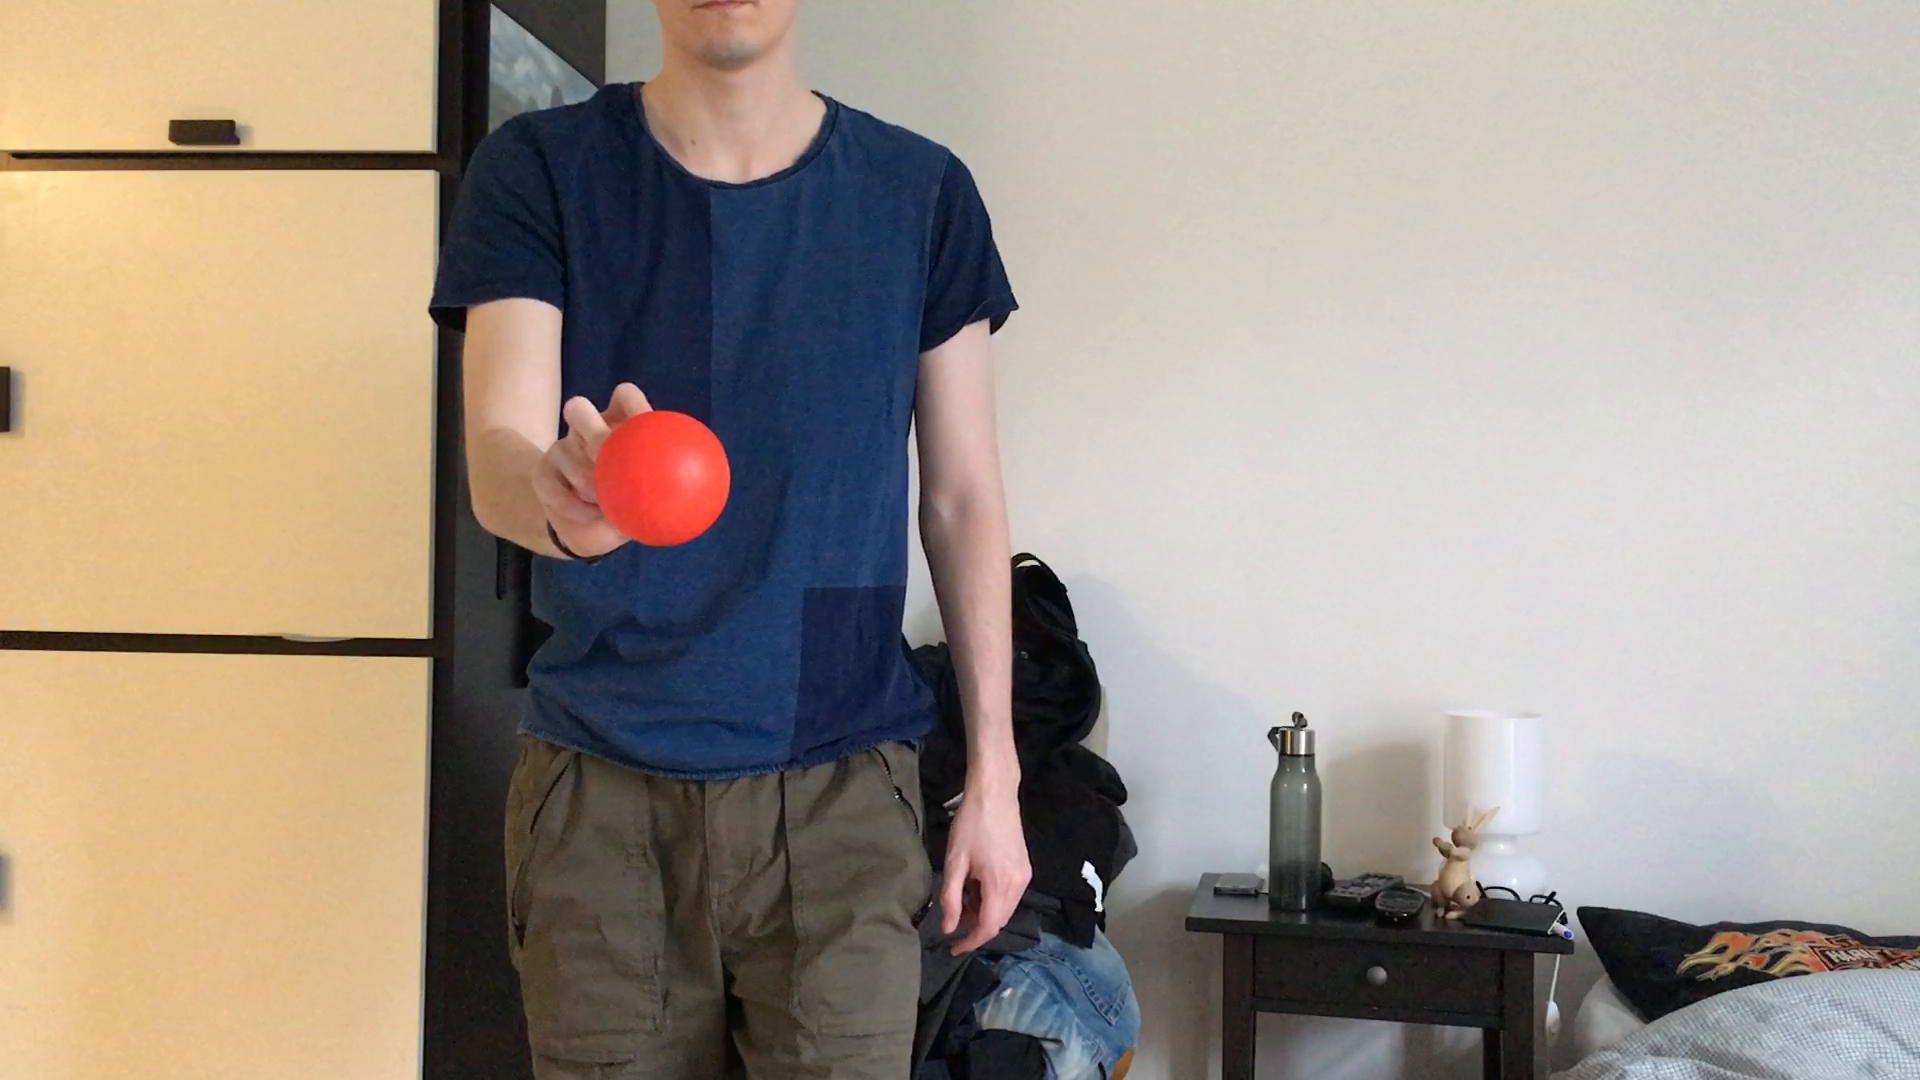Ball: (597, 410, 729, 549)
